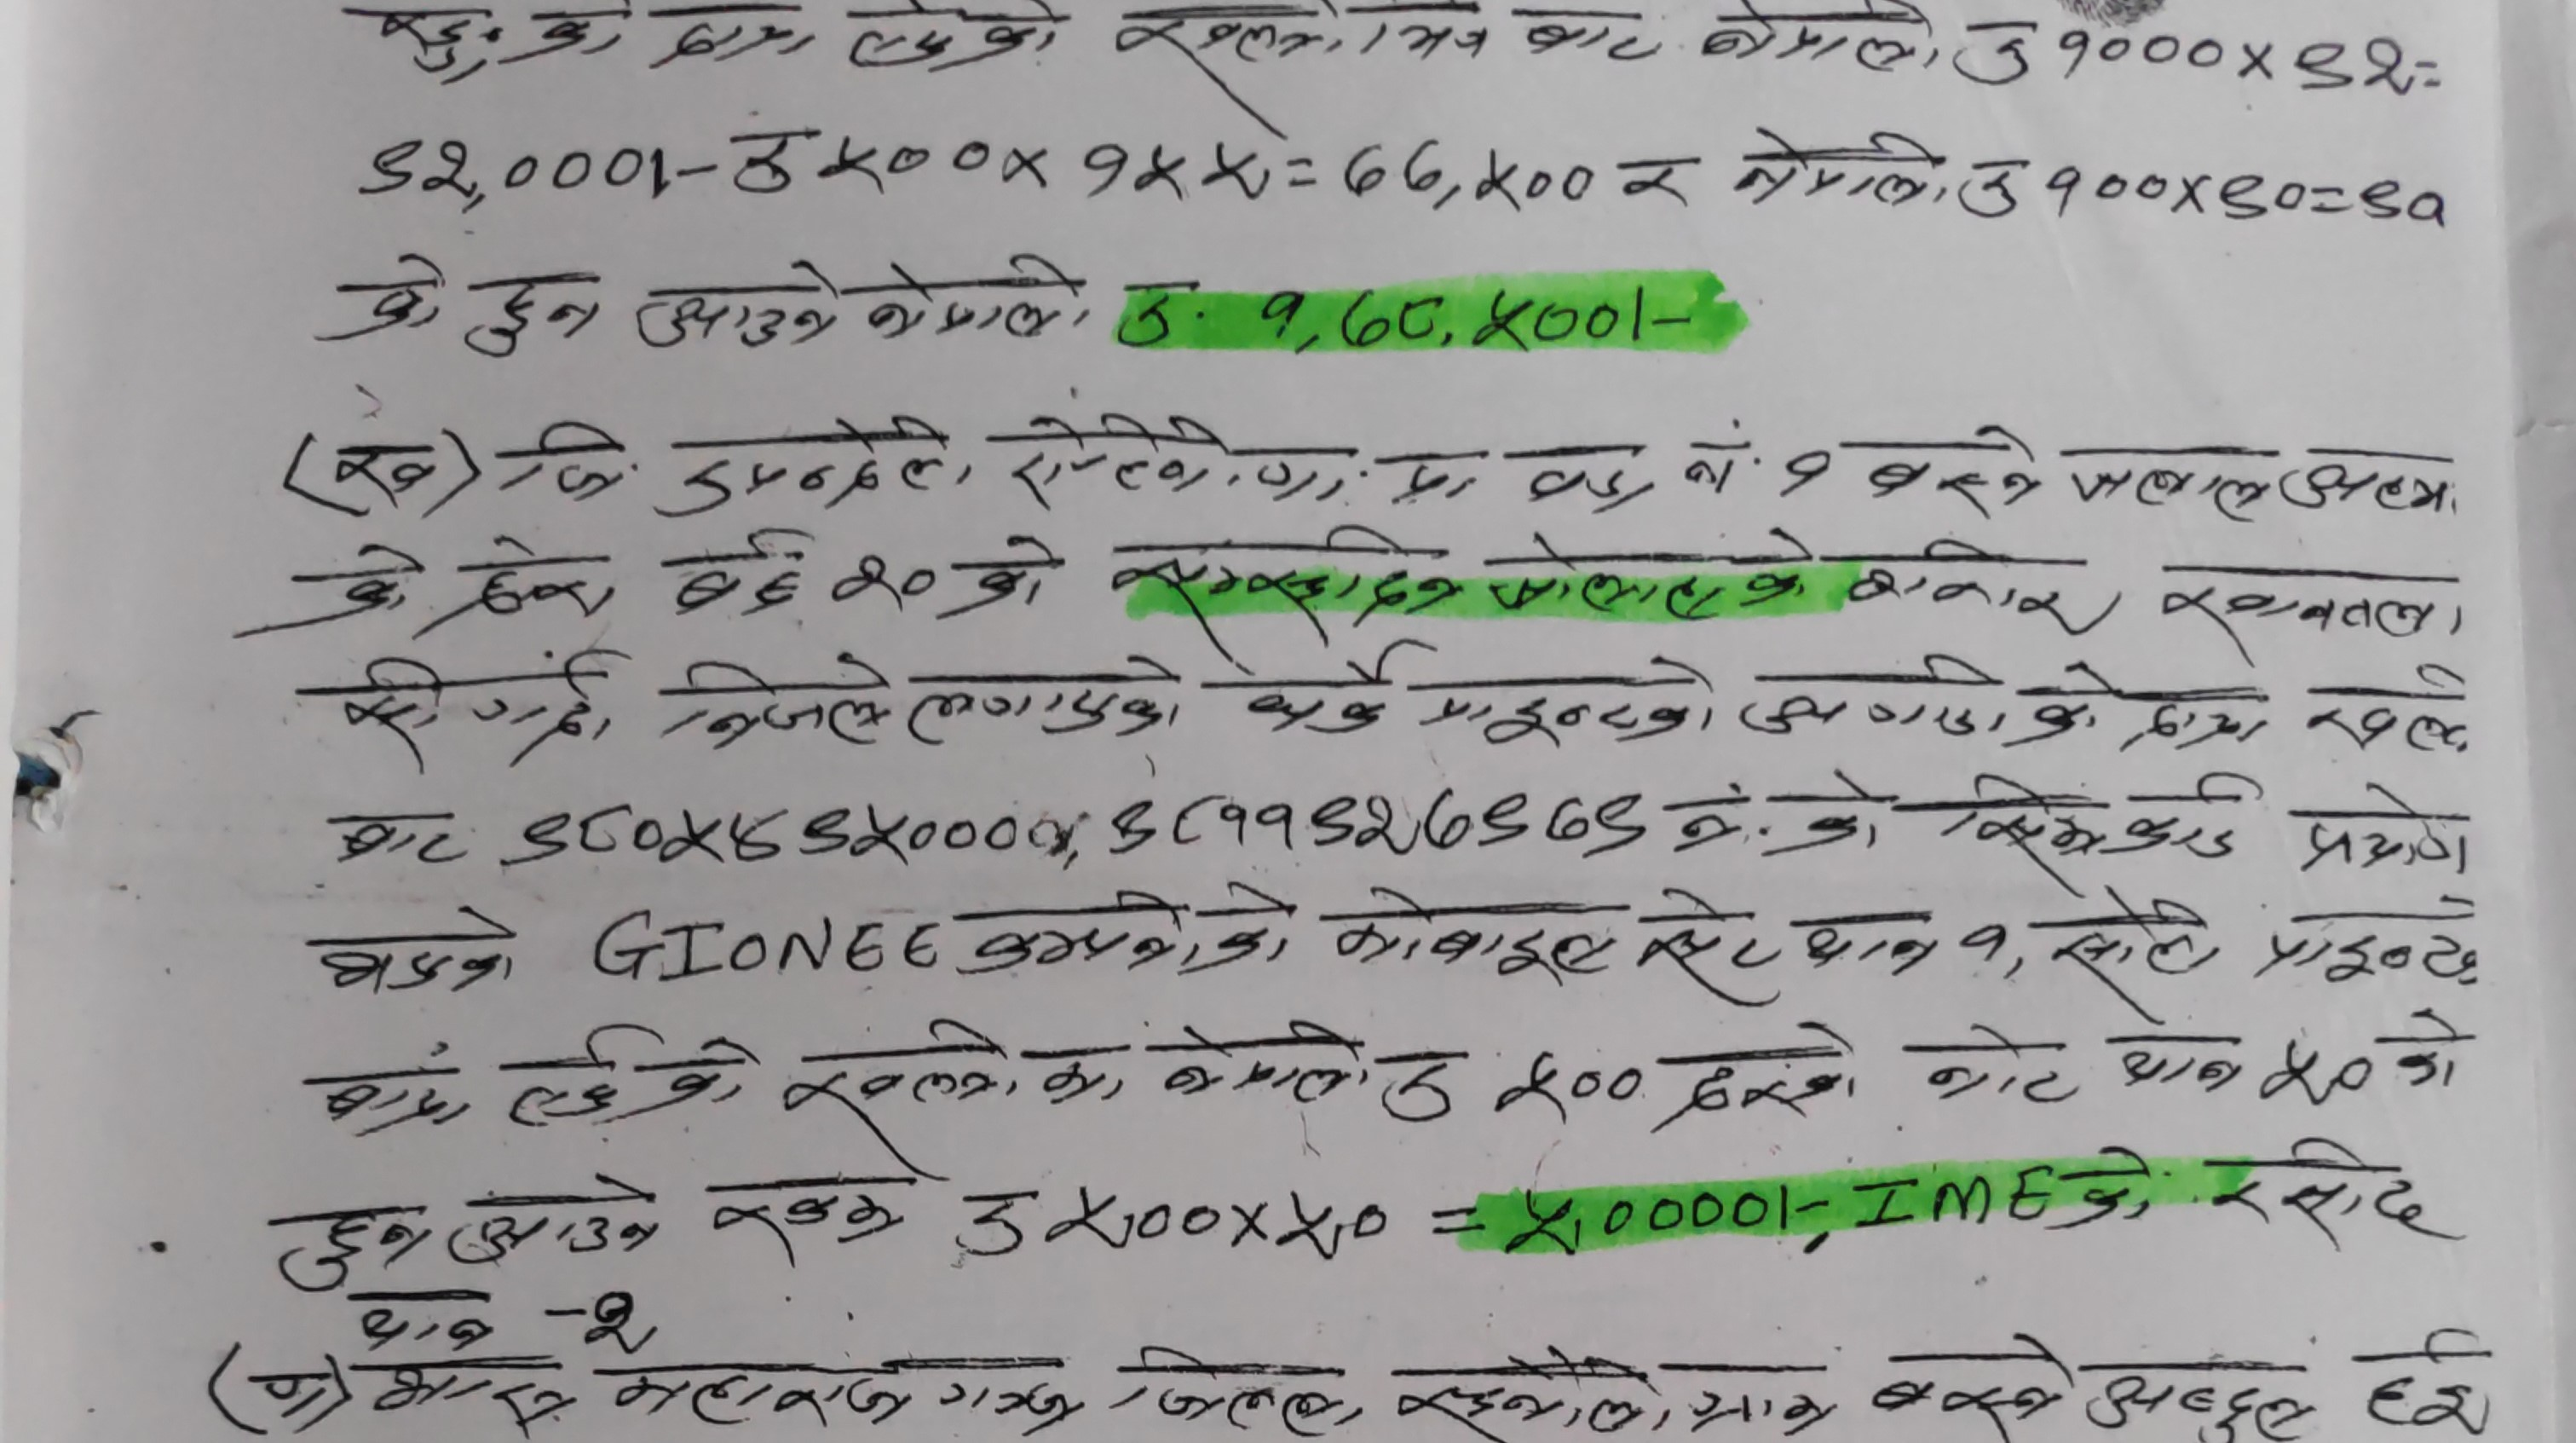text: (775, 1009, 1139, 1161), (1123, 259, 1629, 358), (1115, 4, 1499, 131), (1102, 521, 1468, 644), (607, 1347, 1079, 1443), (1102, 783, 1651, 864), (1928, 761, 2265, 889), (1739, 644, 2120, 749), (331, 641, 630, 774), (513, 800, 1024, 873), (952, 880, 1300, 984), (658, 411, 980, 522), (2153, 551, 2475, 659), (1401, 644, 1718, 754), (2203, 1131, 2463, 1262), (1477, 522, 1826, 620), (492, 1016, 764, 1138), (1330, 880, 1624, 984), (251, 1347, 584, 1438), (1838, 536, 2118, 639), (1389, 1344, 1674, 1443), (658, 646, 904, 760), (1108, 1340, 1371, 1443), (906, 653, 1189, 749), (1484, 1174, 1776, 1264), (2256, 997, 2468, 1119), (856, 244, 1095, 352), (356, 131, 646, 220), (1382, 1036, 1645, 1133), (1339, 129, 1598, 228), (340, 4, 628, 92), (1238, 423, 1490, 522), (2051, 882, 2222, 1025), (1001, 400, 1231, 506), (1861, 1328, 2074, 1443), (955, 1174, 1224, 1264), (1654, 1018, 1867, 1131), (2247, 896, 2489, 995), (1155, 1009, 1375, 1115), (446, 1165, 667, 1269), (2081, 1347, 2319, 1443), (301, 901, 520, 1002), (1668, 767, 1890, 862), (2070, 430, 2279, 529), (1727, 119, 1946, 212), (2286, 777, 2475, 885), (697, 1163, 904, 1261), (1856, 420, 2054, 521), (1637, 880, 1785, 1011), (1219, 639, 1405, 742), (1695, 4, 1950, 78), (251, 538, 435, 641), (632, 262, 842, 351), (1962, 147, 2173, 232), (1905, 1018, 2088, 1115), (451, 529, 623, 630), (1978, 21, 2227, 90), (308, 1039, 476, 1140), (2302, 666, 2475, 761), (257, 1200, 428, 1296), (842, 4, 1079, 73), (2360, 1323, 2498, 1439), (653, 519, 810, 618), (1072, 138, 1269, 216), (2273, 439, 2461, 521), (816, 124, 994, 205), (460, 260, 607, 358), (497, 414, 642, 508), (1681, 1354, 1833, 1443), (315, 253, 448, 351), (1790, 903, 1946, 984), (2132, 675, 2279, 758), (950, 531, 1065, 630), (1523, 436, 1660, 519), (322, 802, 467, 875), (1276, 1186, 1401, 1269), (653, 7, 816, 71), (2063, 1147, 2169, 1238), (2107, 1030, 2250, 1096), (2296, 30, 2417, 108), (326, 436, 439, 513), (828, 549, 947, 621), (1522, 9, 1660, 71), (1677, 420, 1752, 506), (1614, 150, 1706, 216), (2217, 165, 2309, 228), (2360, 170, 2452, 232), (1955, 910, 2019, 986), (1769, 444, 1844, 508)
